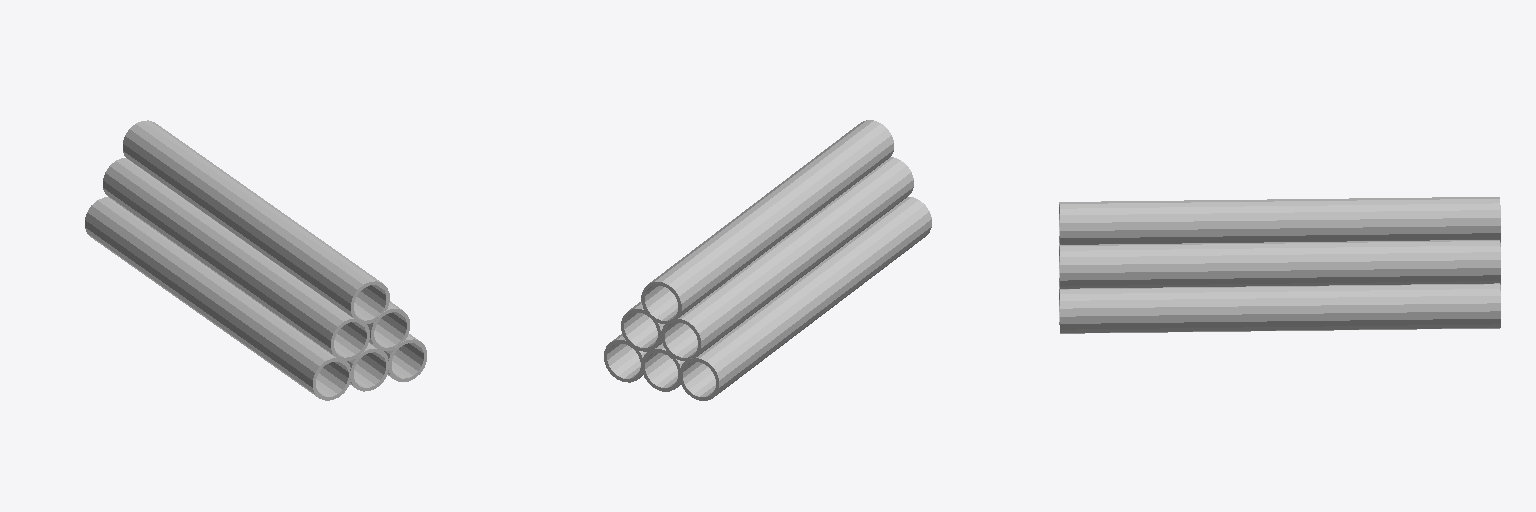
Rendered from Tube Stack Free.obj.
3 views of the same model, side by side, from view 1: azimuth 30°, elevation 25°; view 2: azimuth 150°, elevation 25°; view 3: azimuth 270°, elevation 25° (orthographic).
Visible parts, largest first — view 1: Tube06_0, Tube01_0, Tube05_0, Tube04_0, Tube03_0, Tube02_0; view 2: Tube06_0, Tube01_0, Tube05_0, Tube04_0, Tube02_0, Tube03_0; view 3: Tube03_0, Tube04_0, Tube06_0.
Boxes of the visible parts, x1=… form: Tube06_0: x1=123, y1=120, x2=389, y2=323; Tube01_0: x1=85, y1=197, x2=350, y2=400; Tube05_0: x1=103, y1=158, x2=369, y2=360; Tube04_0: x1=367, y1=301, x2=409, y2=350; Tube03_0: x1=384, y1=334, x2=426, y2=381; Tube02_0: x1=347, y1=343, x2=388, y2=391; Tube06_0: x1=641, y1=120, x2=893, y2=323; Tube01_0: x1=679, y1=197, x2=931, y2=400; Tube05_0: x1=661, y1=157, x2=913, y2=360; Tube04_0: x1=621, y1=302, x2=664, y2=351; Tube02_0: x1=642, y1=343, x2=684, y2=391; Tube03_0: x1=604, y1=334, x2=646, y2=382; Tube03_0: x1=1059, y1=283, x2=1500, y2=333; Tube04_0: x1=1059, y1=240, x2=1500, y2=288; Tube06_0: x1=1059, y1=197, x2=1500, y2=244.
Bounding box in the file's own units: 21.32 × 18.4 × 66.43.